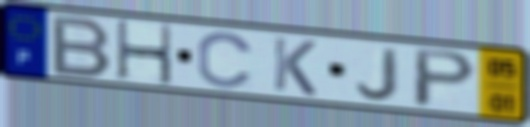B: (48, 13, 115, 80)
C: (195, 29, 257, 90)
H: (113, 18, 175, 88)
J: (354, 45, 403, 103)
K: (270, 34, 319, 98)
P: (410, 47, 480, 110)
